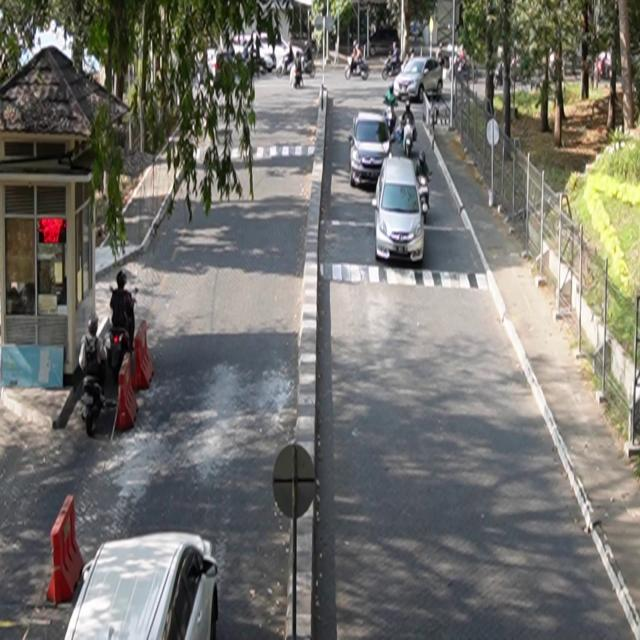car: (64, 531, 220, 640), (373, 157, 426, 264), (349, 111, 393, 188), (394, 57, 444, 104)
